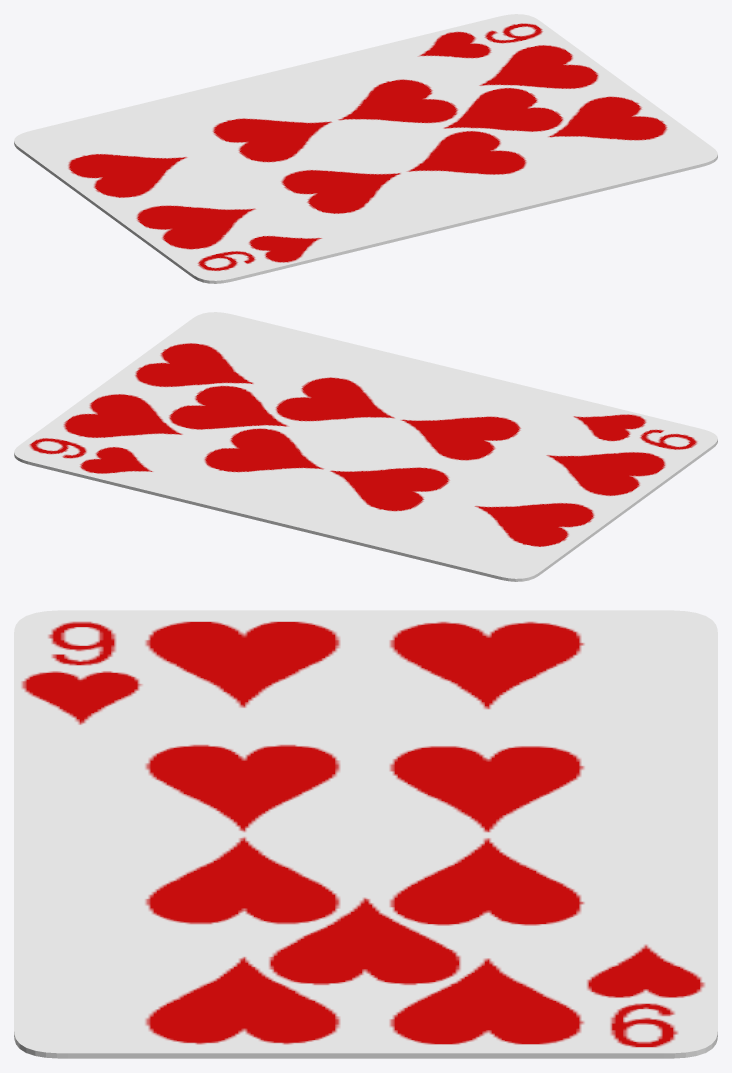
File: 9_of_hearts.gltf
3 renders of one model, top to bottom at view 1: azimuth 30°, elevation 25°; view 2: azimuth 150°, elevation 25°; view 3: azimuth 270°, elevation 25°, orthographic. The views are drawn at different scales.
Visible parts, largest first — view 1: Plane; view 2: Plane; view 3: Plane.
Part boxes in pixels (<box>): Plane: <box>14,14,717,283</box>; Plane: <box>14,312,717,581</box>; Plane: <box>14,610,717,1058</box>.
Size of the model in its own units: 0.09 by 0.0005 by 0.0605.
Materials: 1 (1 with a texture image).
